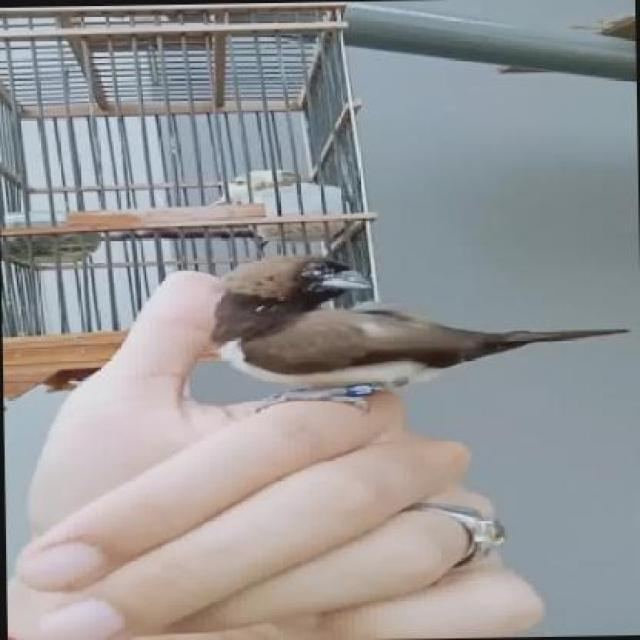Bird: (209, 252, 627, 421)
